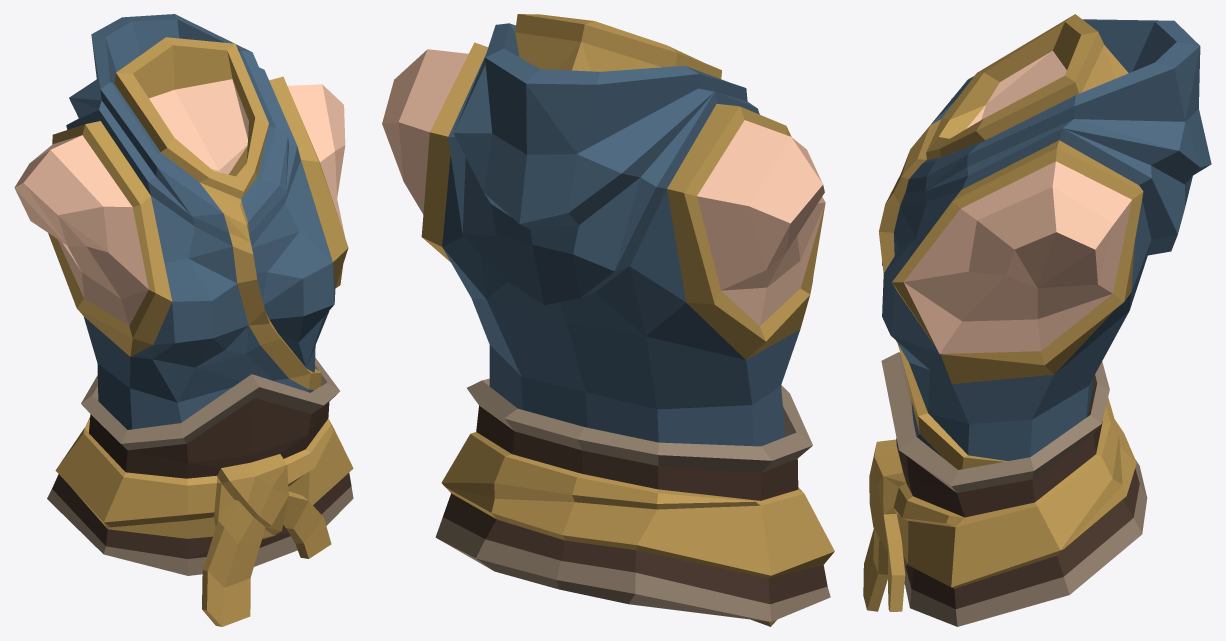
File: Chr_Torso_Female_05_Static.fbx
3 views of the same model, side by side, from view 1: azimuth 30°, elevation 25°; view 2: azimuth 150°, elevation 25°; view 3: azimuth 270°, elevation 25° (orthographic). The views are drawn at different scales.
Visible parts, largest first — view 1: Chr_Torso_Female_05_Static; view 2: Chr_Torso_Female_05_Static; view 3: Chr_Torso_Female_05_Static.
Boxes of the visible parts, <box> form: Chr_Torso_Female_05_Static: <box>14,14,353,626</box>; Chr_Torso_Female_05_Static: <box>382,14,834,626</box>; Chr_Torso_Female_05_Static: <box>863,14,1211,626</box>.
Size of the model in its own units: 0.4985 by 0.7557 by 0.4021.
